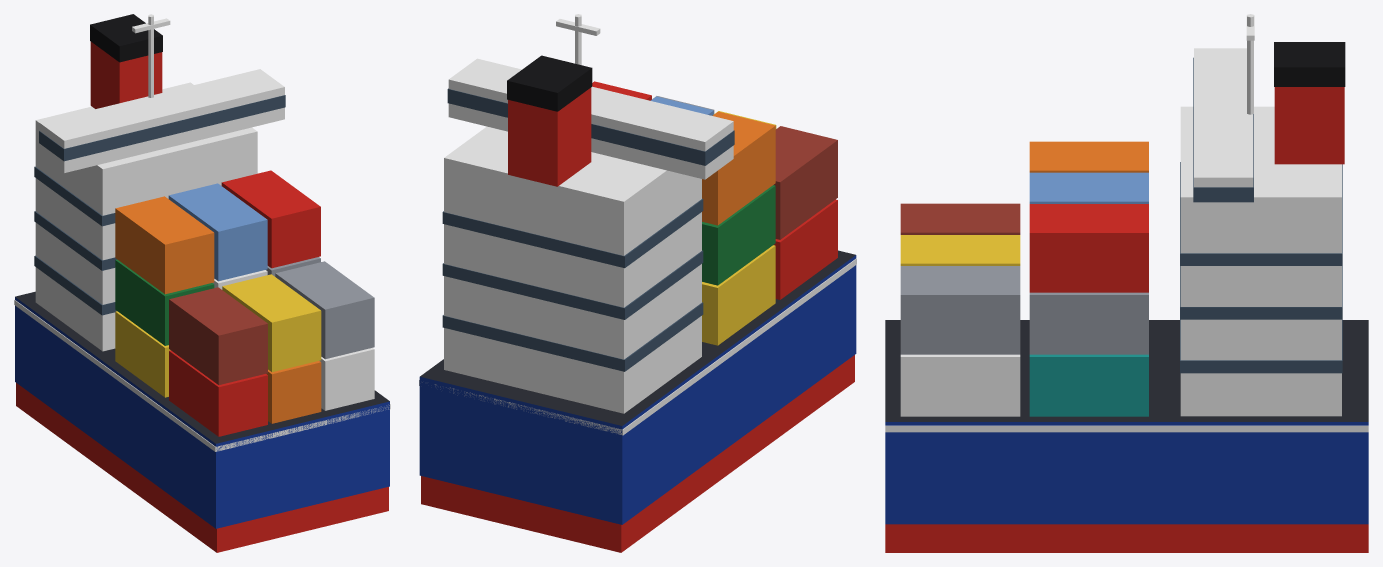
File: buque_popa.obj
The picture shows the model from 3 angles, left to right: view 1: azimuth 30°, elevation 25°; view 2: azimuth 150°, elevation 25°; view 3: azimuth 270°, elevation 25°; orthographic projection. The views are drawn at different scales.
Visible parts, largest first — view 1: buque_popa; view 2: buque_popa; view 3: buque_popa.
Boxes of the visible parts, x1=… form: buque_popa: x1=14, y1=14, x2=390, y2=552; buque_popa: x1=419, y1=14, x2=856, y2=552; buque_popa: x1=885, y1=14, x2=1368, y2=552.
Size of the model in its own units: 11.45 by 20 by 18.
